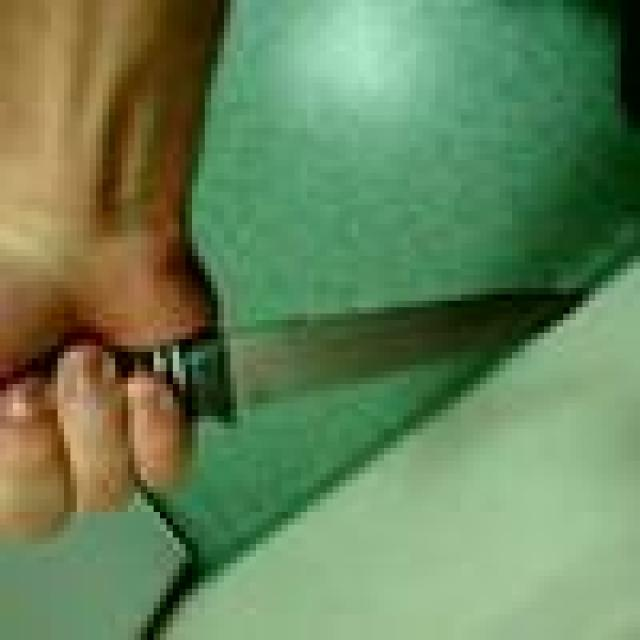knife: (204, 288, 583, 412)
